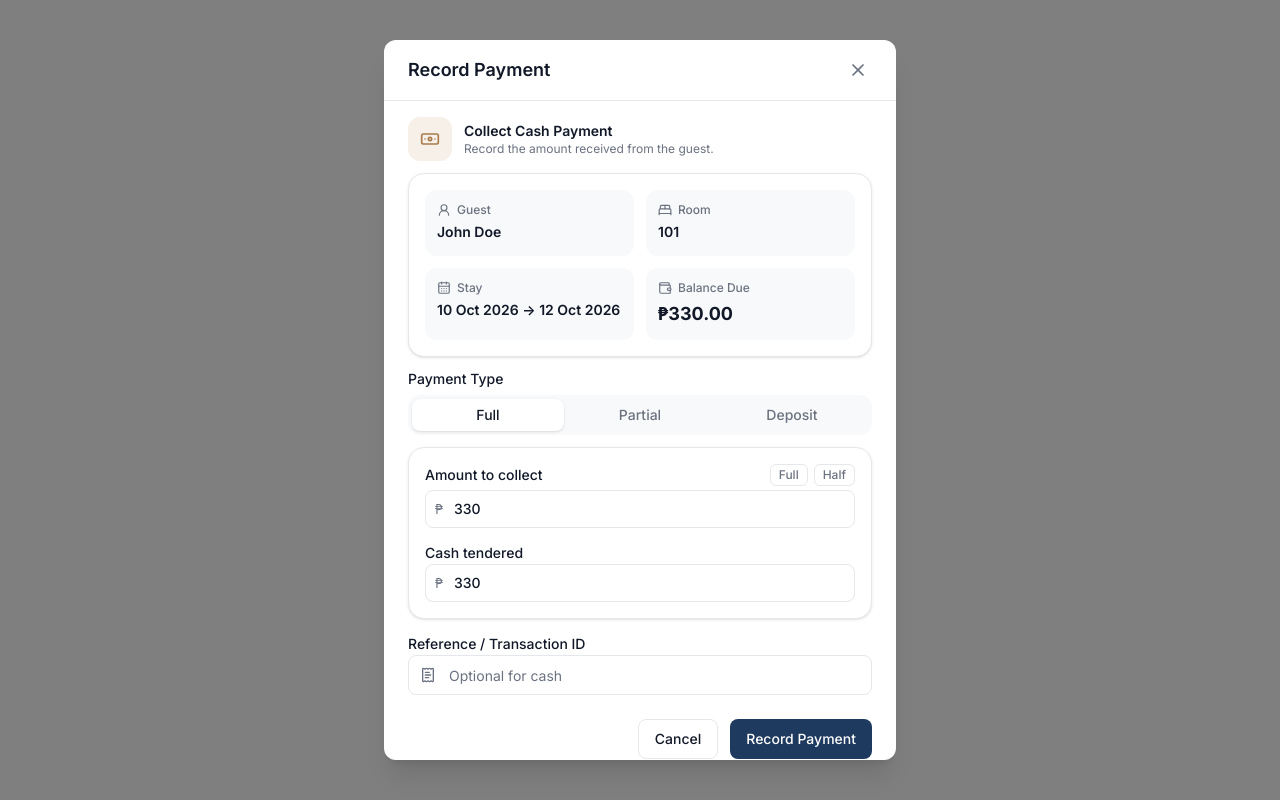
it: PaymentModal › disables submit when the amount is zero
The image size is (1280, 800).
Step 1. Replace the text in the number field named "Amount to collect" with "0" → (640, 509), box [425, 490, 855, 528]
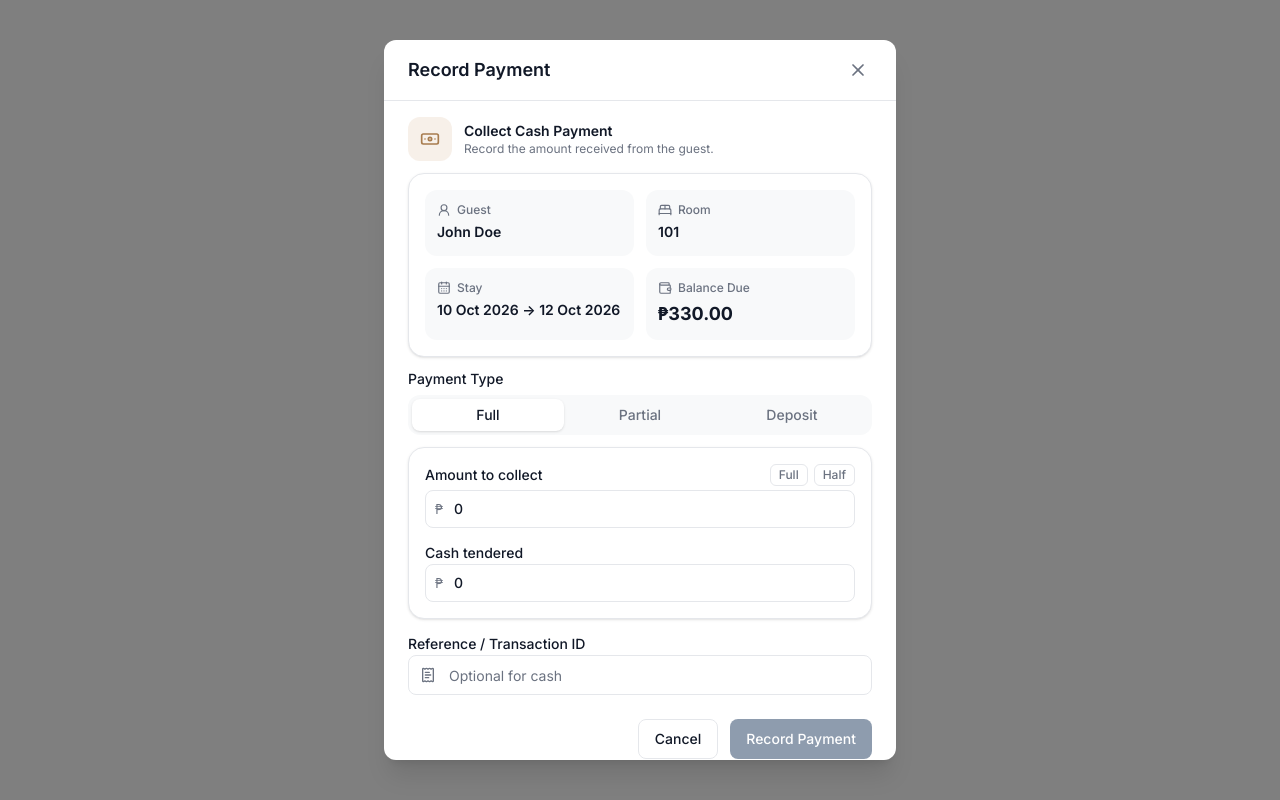
expect the button "Record Payment" is disabled: met, box [730, 719, 872, 759]
